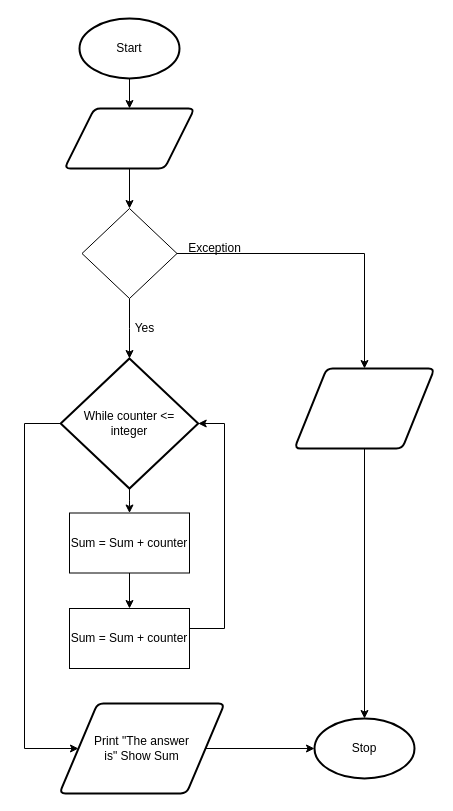
Some shapes in this 453 by 811 pixel diagram are drawn without their labels. Here are the shapes that lost their labels. From the top down, the box of each, then its label:
(63, 107, 195, 169): Get integer
(81, 208, 177, 298): Try
(293, 367, 435, 449): Print "This is not an integer."
